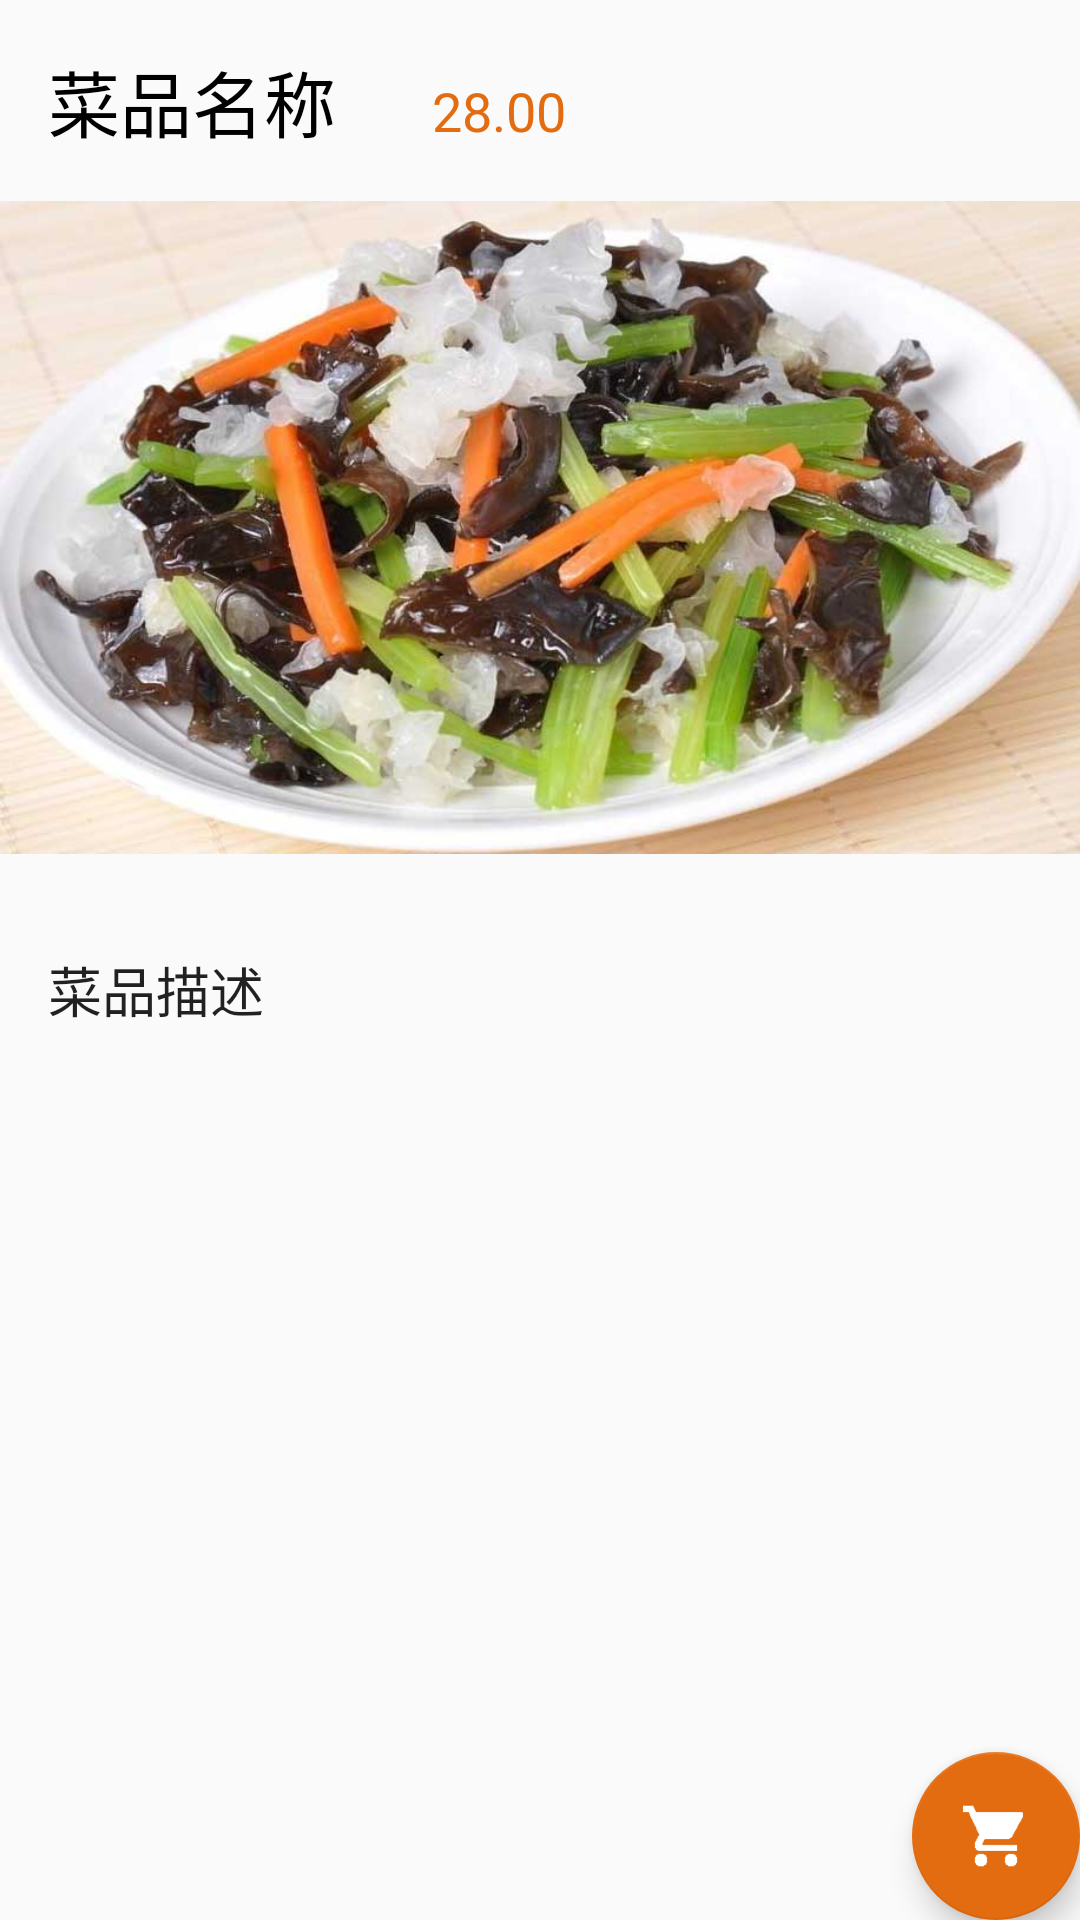

Screen size 1080 x 1920. Icon name, then its box in pixels as (x1, y1, x2, y2):
shopping cart: (912, 1752, 1080, 1920)
